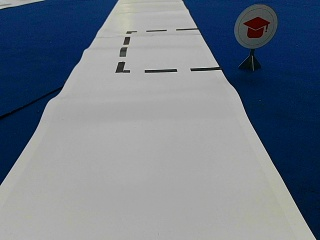school: (234, 5, 278, 47)
